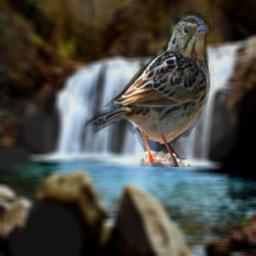Sparrow: (85, 8, 215, 167)
